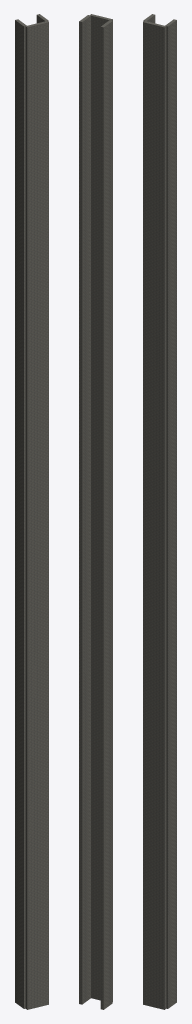
File: wall.obj
The picture shows the model from 3 angles, left to right: view 1: azimuth 30°, elevation 25°; view 2: azimuth 150°, elevation 25°; view 3: azimuth 330°, elevation 25°; orthographic projection.
Visible parts, largest first — view 1: Box002, Box003; view 2: Box003, Box001, Box002; view 3: Box002, Box001.
Part boxes in pixels (x1,y1,x2,y2): Box002: (25, 21, 48, 1009); Box003: (15, 19, 26, 1008); Box003: (100, 20, 112, 1009); Box001: (79, 15, 90, 1004); Box002: (90, 14, 112, 1001); Box002: (143, 21, 166, 1009); Box001: (165, 19, 176, 1008).
Size of the model in its own units: 16 by 610 by 12.03.
1 material, 1 textured.
